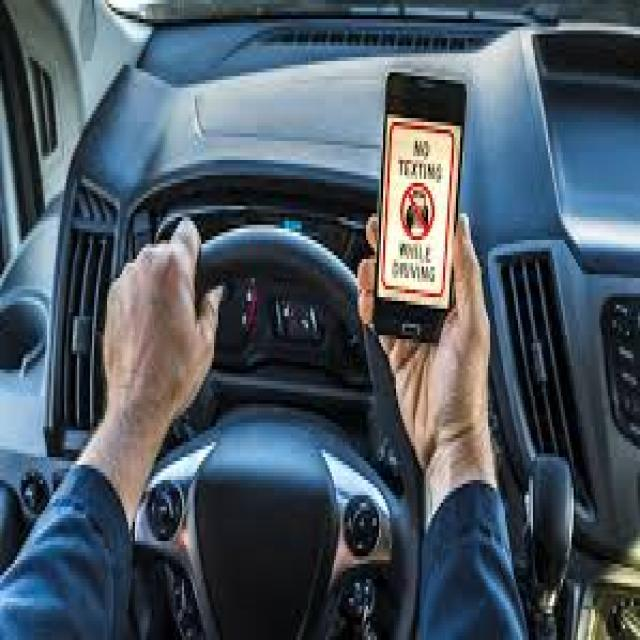Cellphone_texting: (355, 49, 497, 442)
